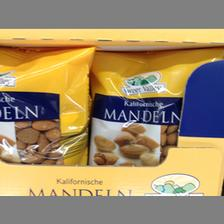Nuss: (89, 51, 221, 165), (0, 46, 96, 166)
